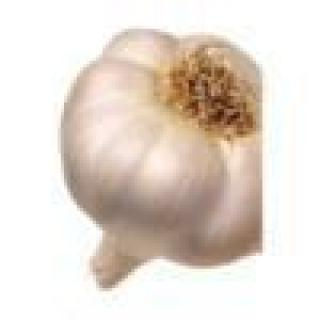Bawang Putih: (52, 27, 283, 289)
